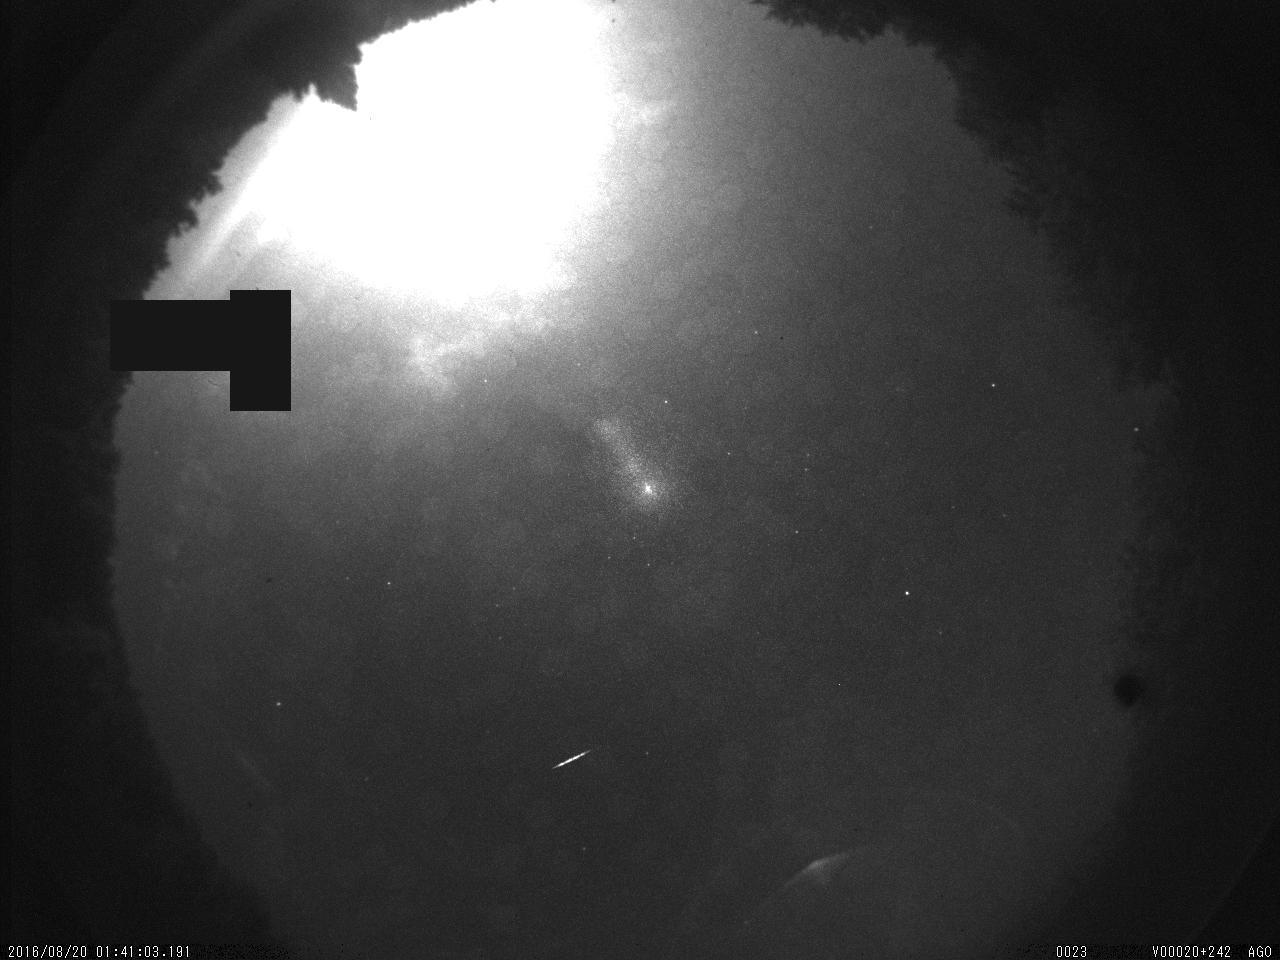Meteor: (550, 747, 591, 770)
